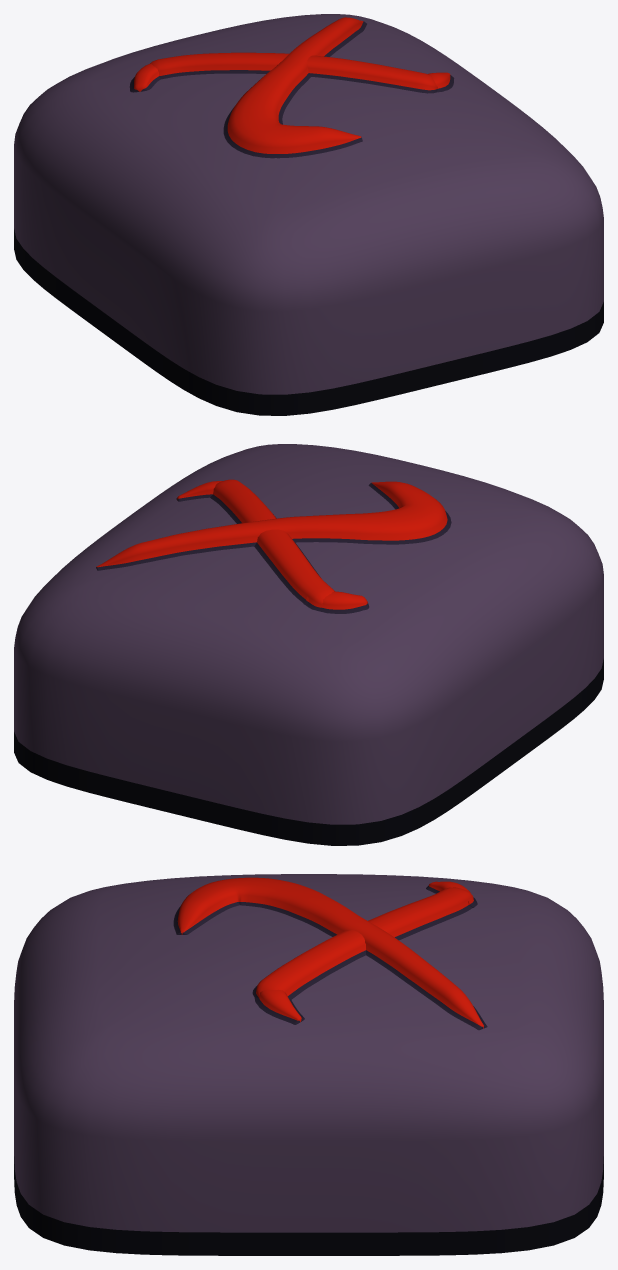
The model's file is block_x.glb.
3 views of the same model, one above another, from view 1: azimuth 30°, elevation 25°; view 2: azimuth 150°, elevation 25°; view 3: azimuth 270°, elevation 25° (orthographic). The views are drawn at different scales.
Visible parts, largest first — view 1: block, x_rise, x_fall, x_hook; view 2: block, x_rise, x_fall, x_hook; view 3: block, x_rise, x_fall, x_flick.
Part boxes in pixels (box(x1,y1,x2,y2)): block: box(14, 14, 603, 415); x_rise: box(223, 17, 366, 158); x_fall: box(150, 52, 437, 93); x_hook: box(129, 63, 160, 92); block: box(14, 444, 603, 845); x_rise: box(96, 481, 451, 570); x_fall: box(210, 479, 334, 610); x_hook: box(303, 591, 369, 613); block: box(14, 874, 603, 1255); x_rise: box(173, 877, 487, 1030); x_fall: box(252, 887, 477, 999); x_flick: box(254, 989, 304, 1024).
Bounding box in the file's own units: 22 × 10.83 × 25.2.
